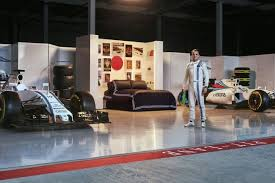FormulaOneCar: (1, 67, 108, 132)
